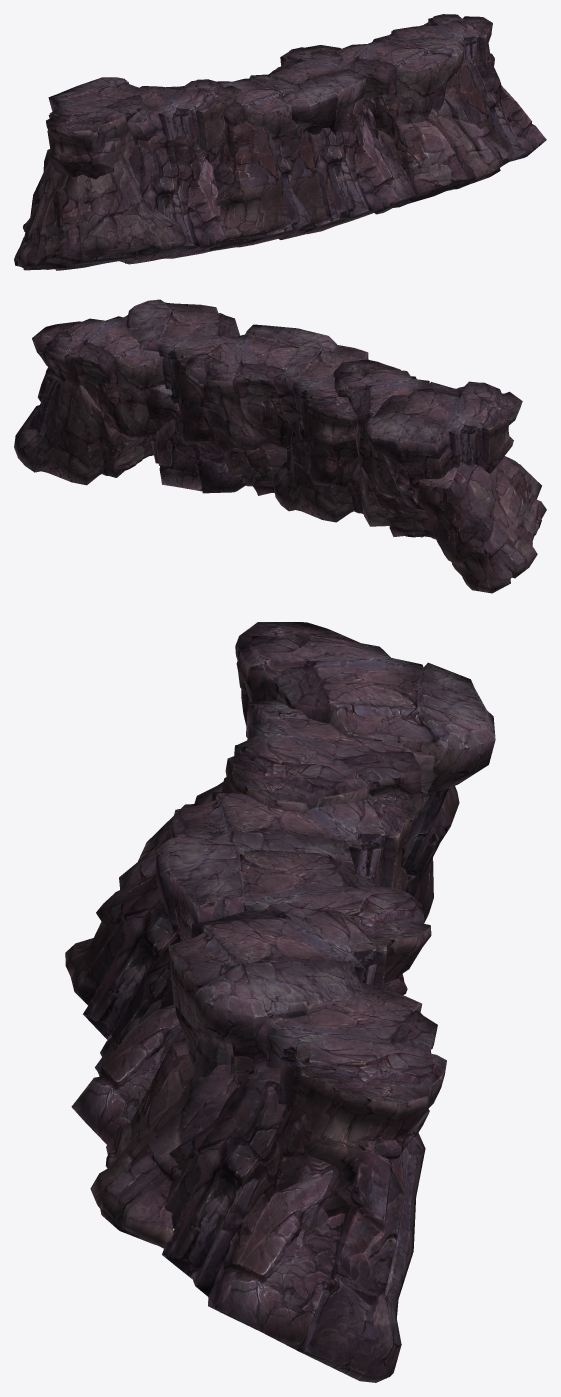
File: bel_env_boulder_wall_curve_05.glb
3 views of the same model, one above another, from view 1: azimuth 30°, elevation 25°; view 2: azimuth 150°, elevation 25°; view 3: azimuth 270°, elevation 25° (orthographic). The views are drawn at different scales.
Parts seen in each view (by area): view 1: bel_env_boulder_wall_curve_05; view 2: bel_env_boulder_wall_curve_05; view 3: bel_env_boulder_wall_curve_05.
Part boxes in pixels (x1,y1,x2,y2): bel_env_boulder_wall_curve_05: [14, 14, 546, 270]; bel_env_boulder_wall_curve_05: [14, 299, 546, 593]; bel_env_boulder_wall_curve_05: [65, 622, 495, 1382].
Size of the model in its own units: 7.71 by 2.48 by 2.82.
1 material, 1 textured.
